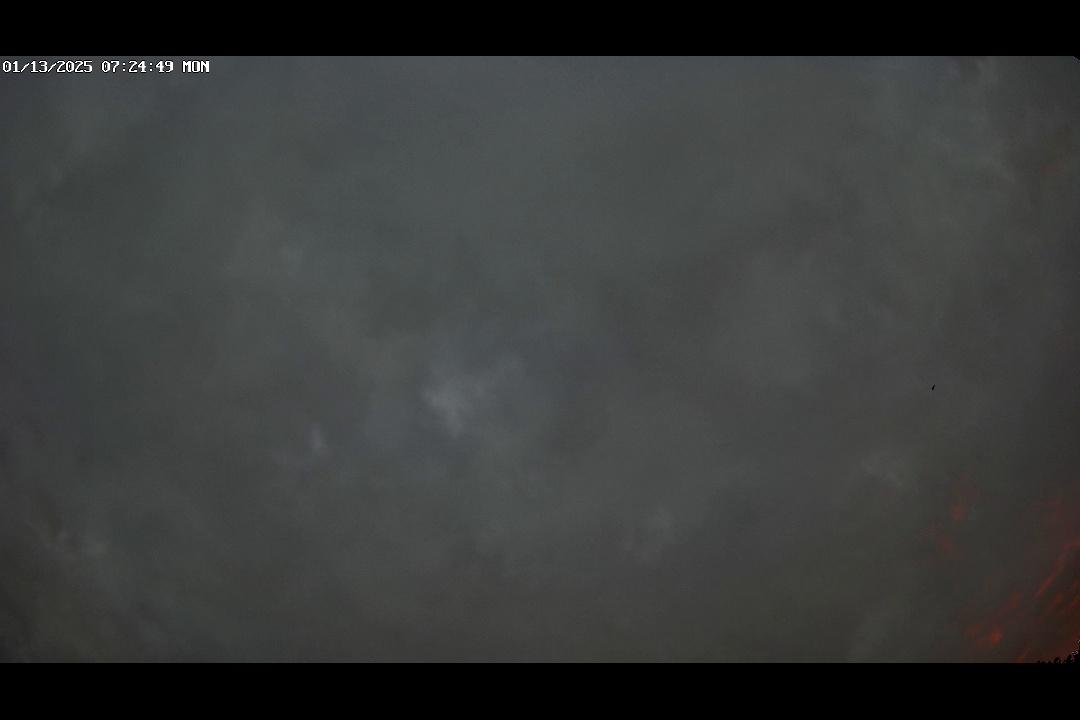WildLife: (926, 380, 940, 395)
